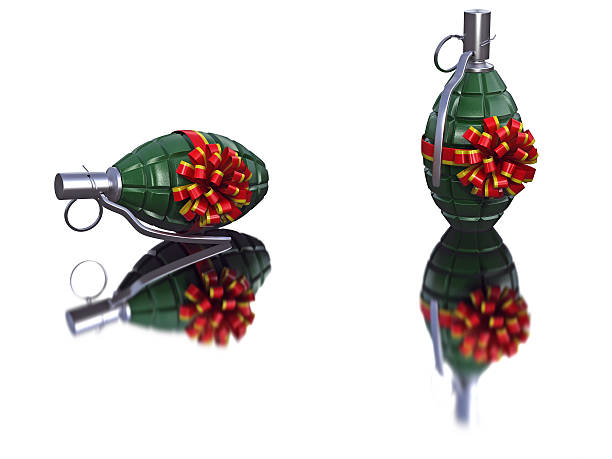e1: (422, 12, 538, 228), (417, 228, 533, 424), (54, 133, 279, 226), (66, 245, 271, 340)
